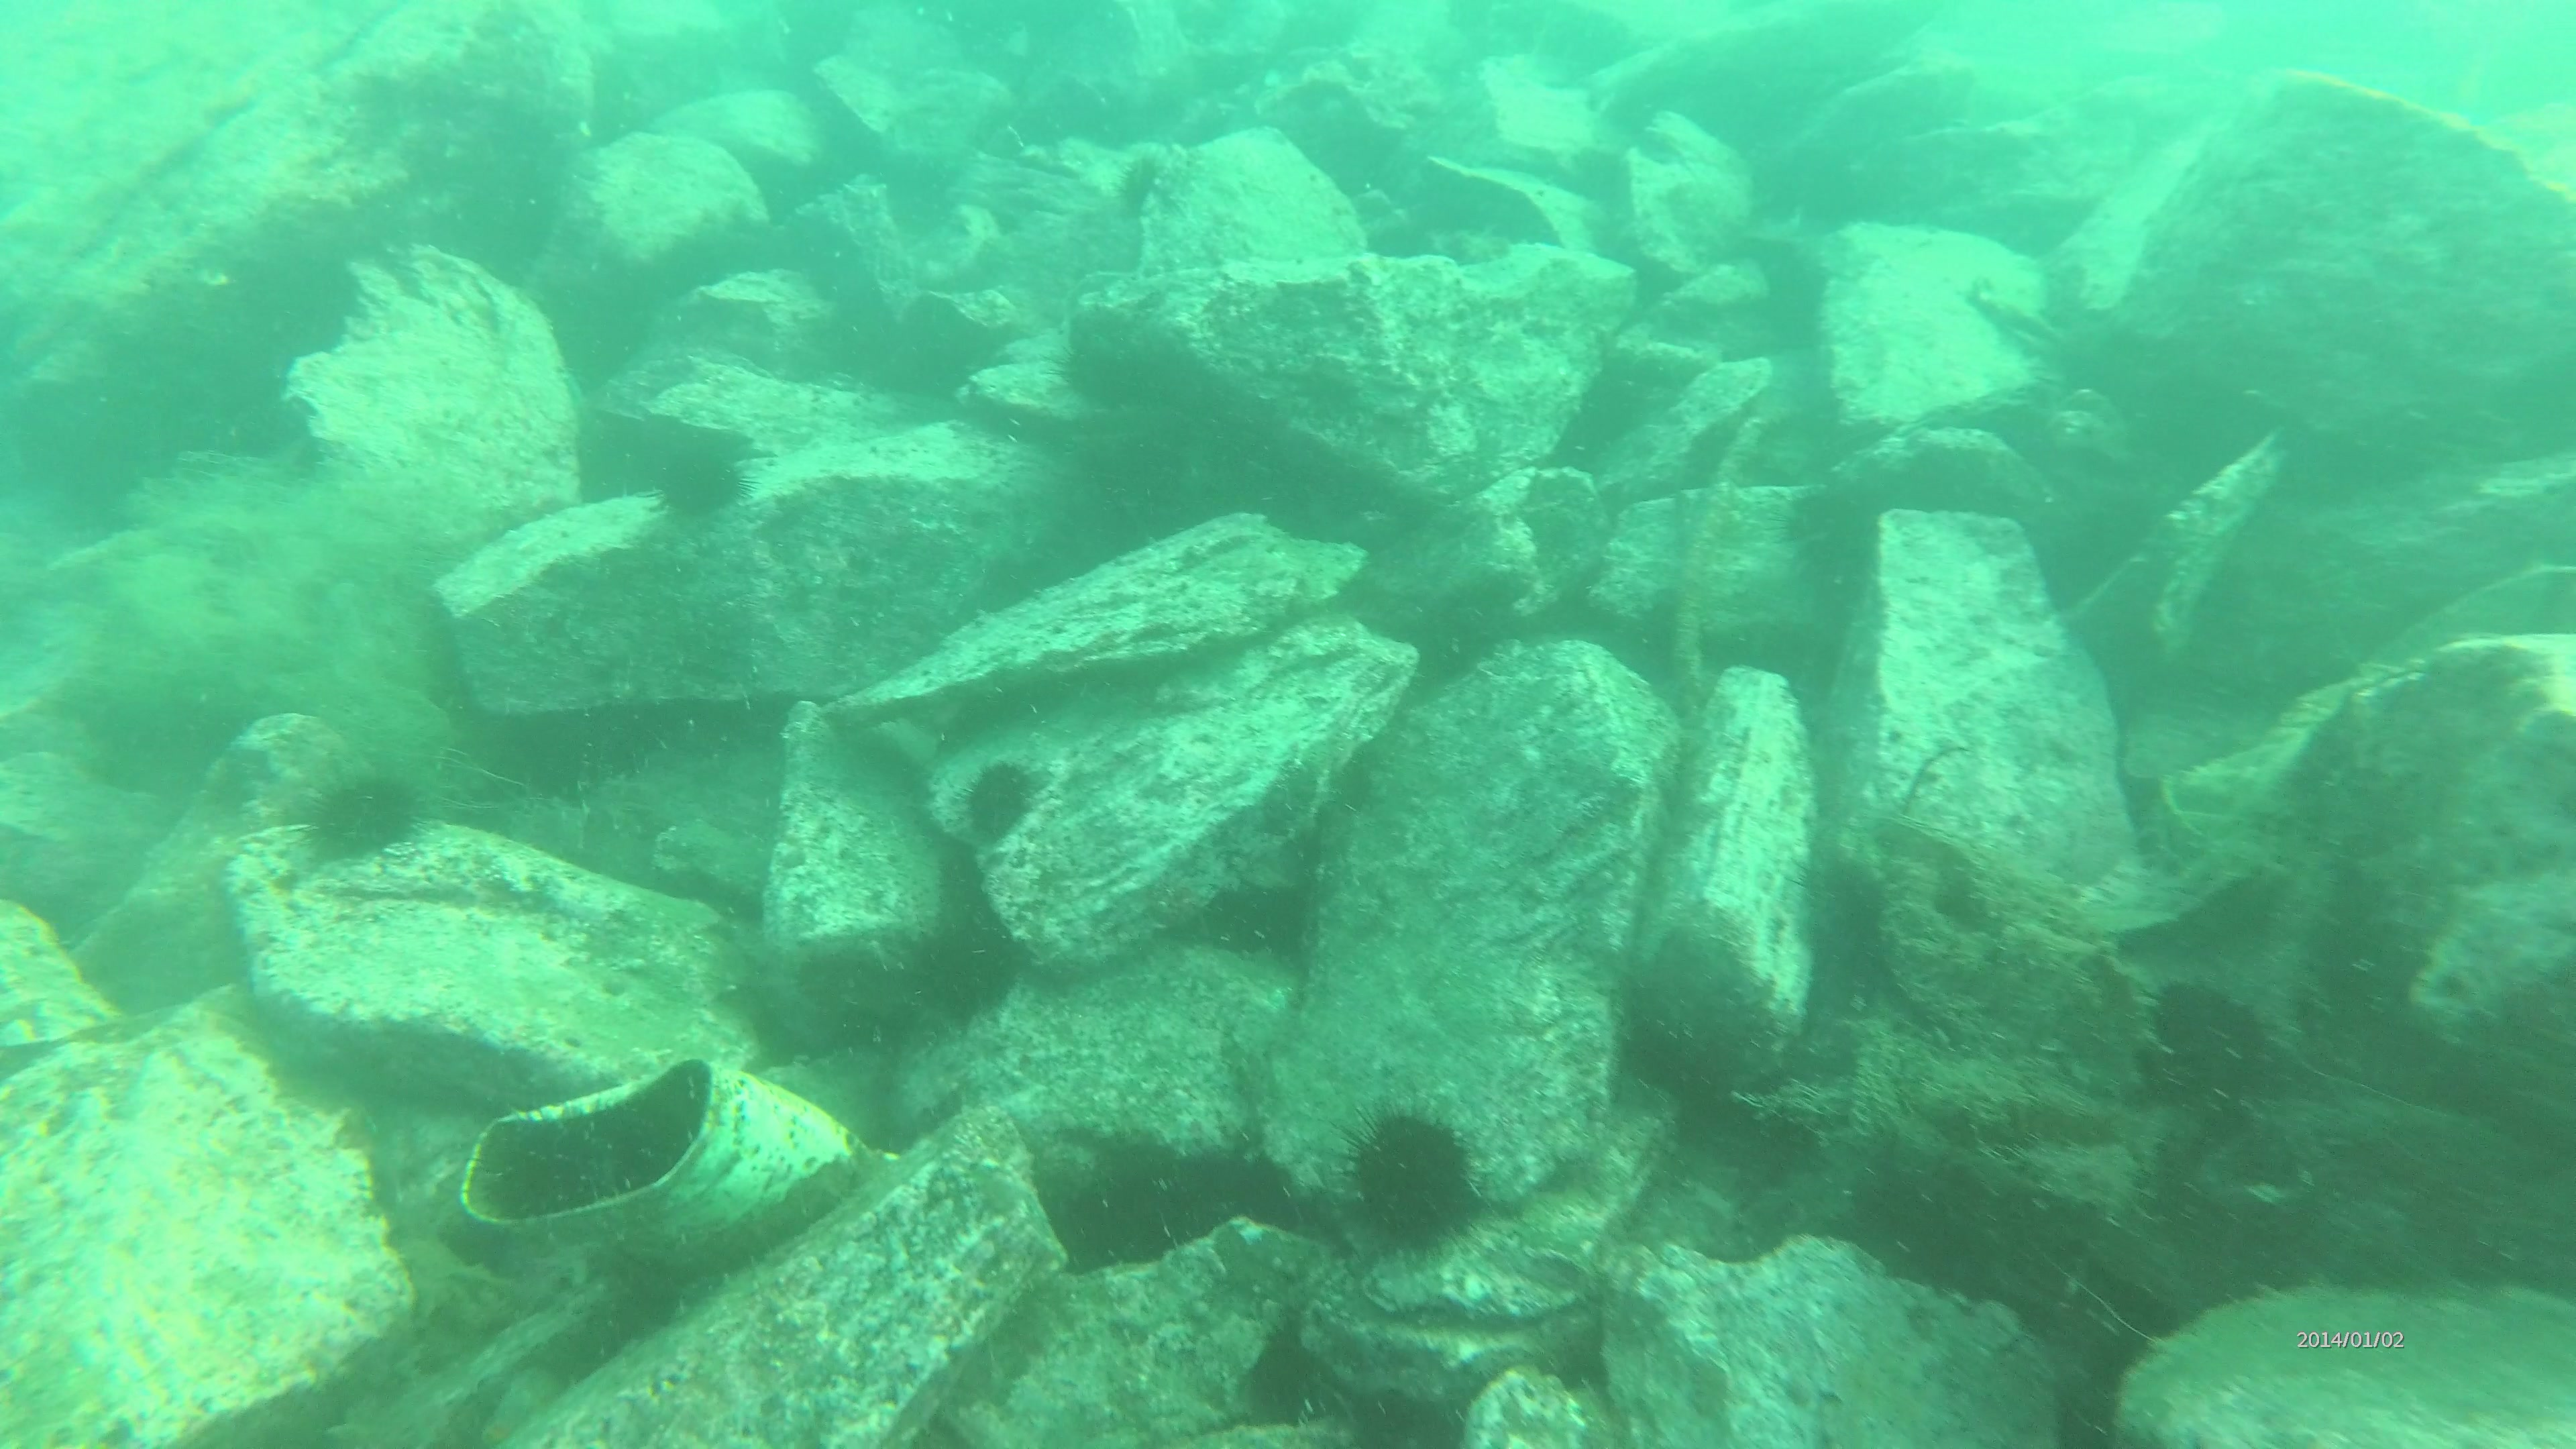echinus: (1332, 1097, 1502, 1263), (1776, 471, 1905, 600), (294, 768, 425, 867), (640, 446, 764, 533), (957, 757, 1044, 851)
